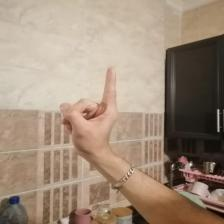one: (58, 63, 127, 153)
